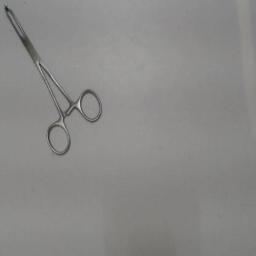Allis Tissue Forceps: (0, 0, 108, 162)
